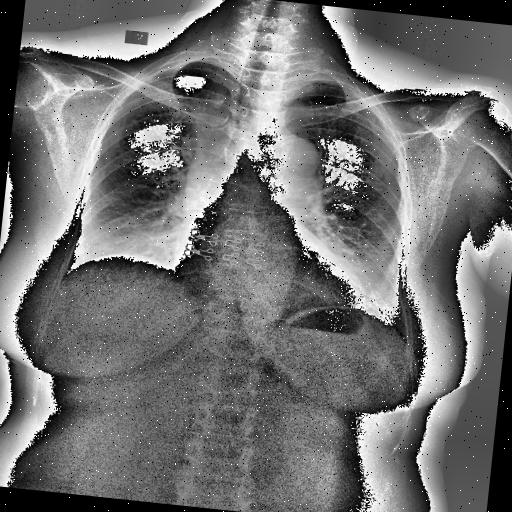0- Aortic enlargement: (248, 127, 324, 200), (236, 129, 320, 193), (261, 132, 320, 184)
3- Cardiomegaly: (166, 237, 375, 318), (170, 228, 370, 312), (167, 244, 369, 324)
